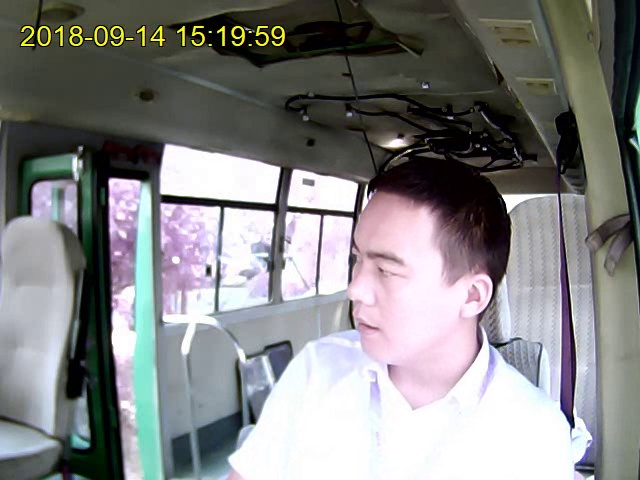closed_mouth: (351, 314, 382, 338)
